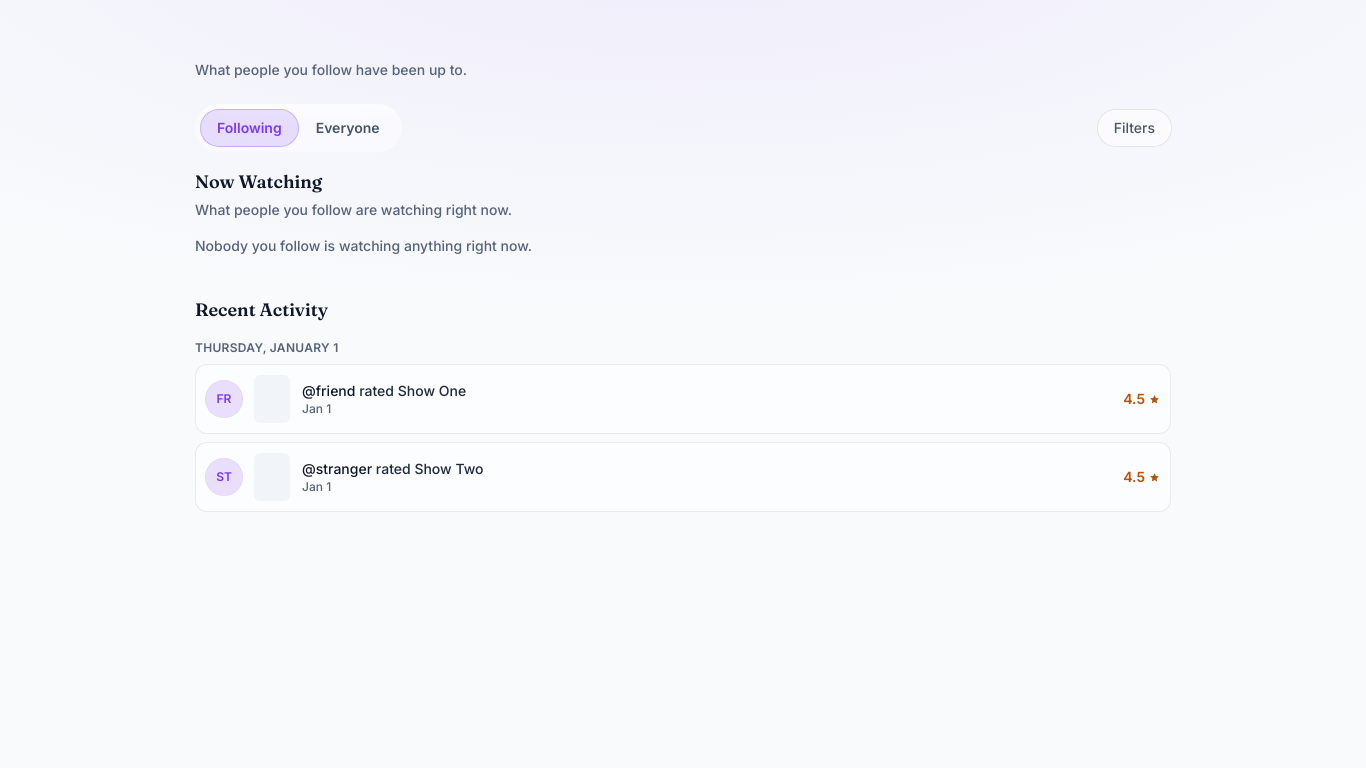
Test: Activity › closes the Filters sheet on Escape
Step 1. Click the button "Filters" → point(1134, 128), box [1098, 110, 1171, 146]
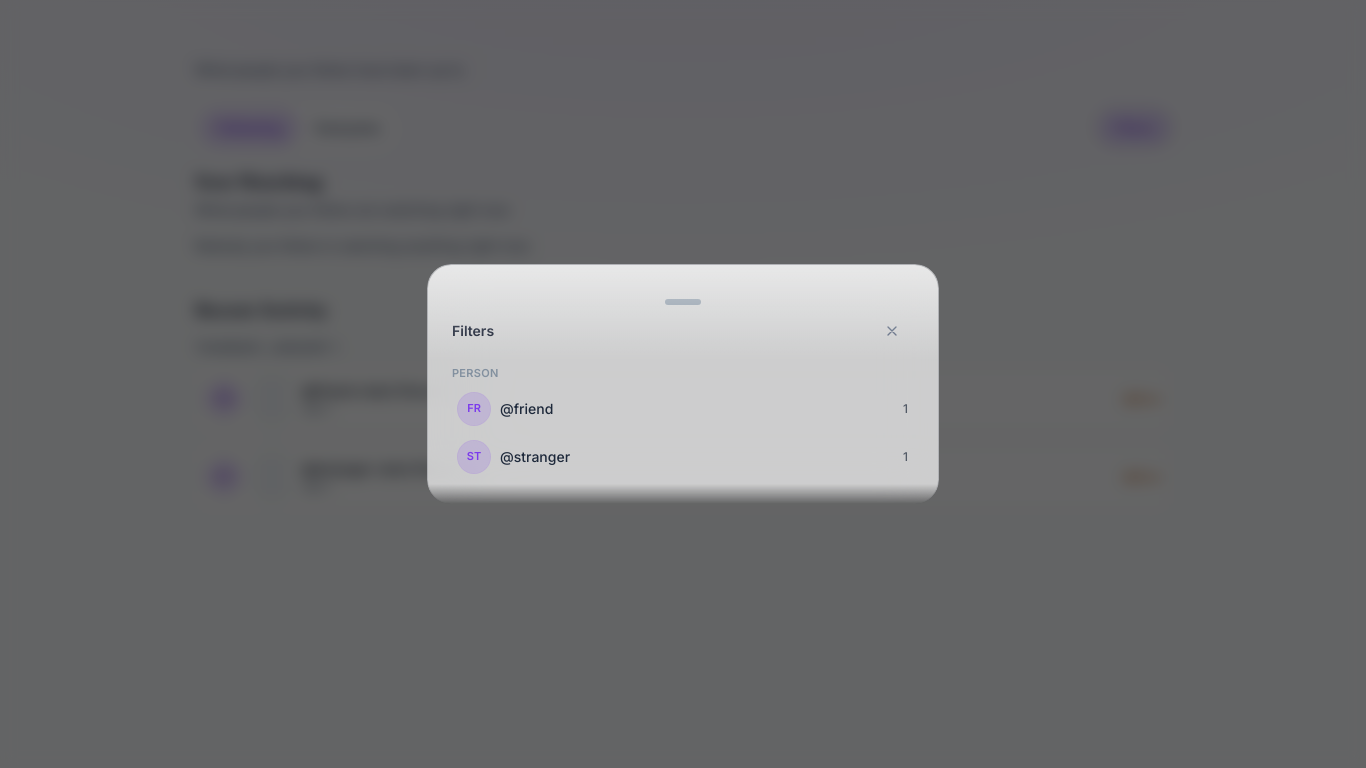
Result: the dialog "Filters" is shown at [427, 264, 939, 504]
Step 2. Press Escape
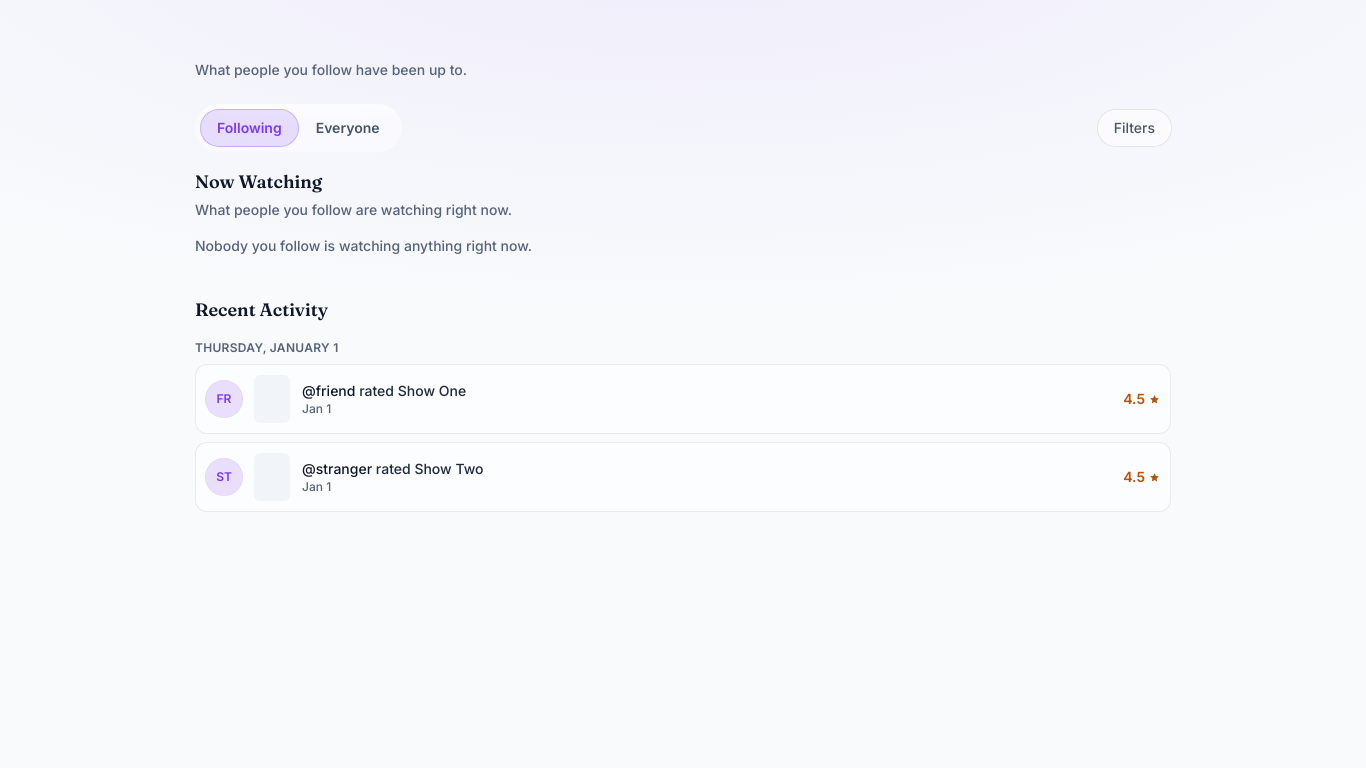
Result: the dialog is gone
